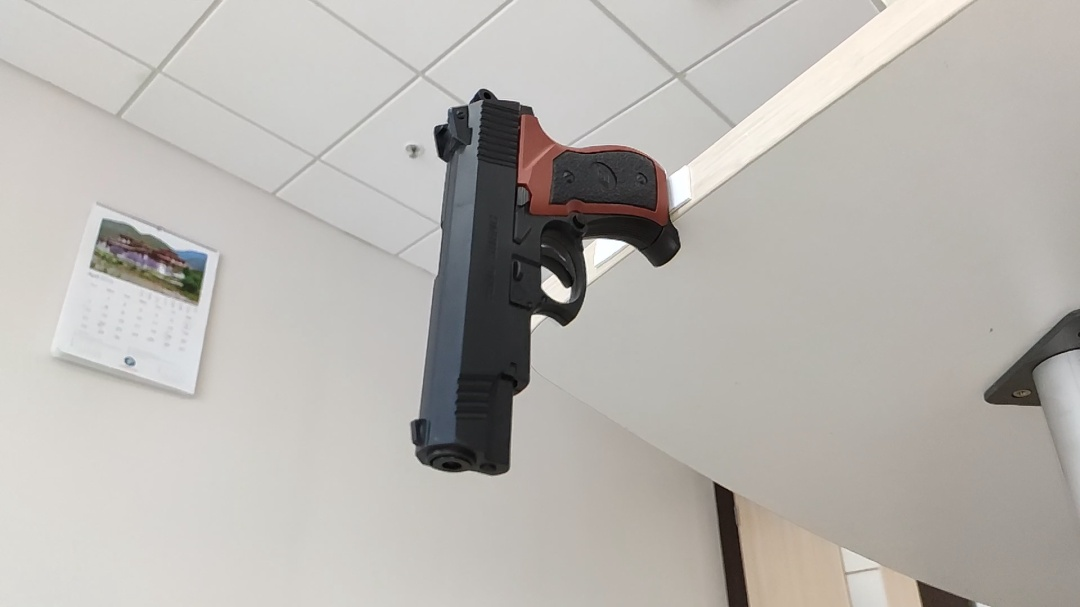gun: (314, 200, 661, 327)
